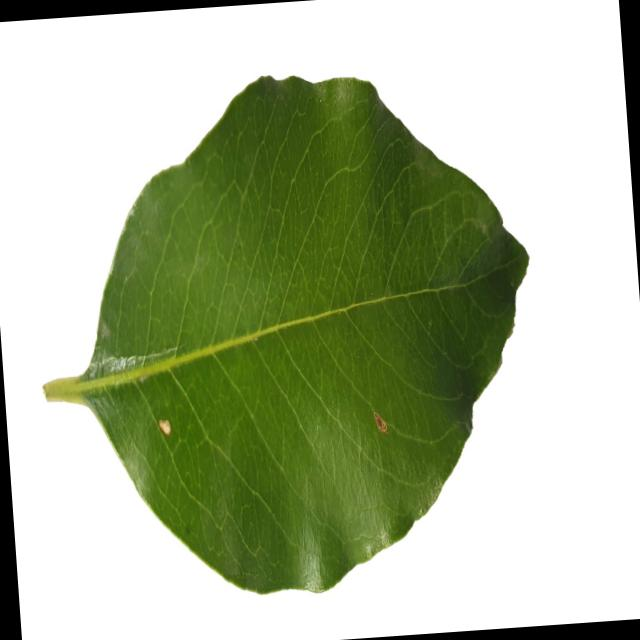Medicinal-Sandalwood: (19, 54, 552, 614)
